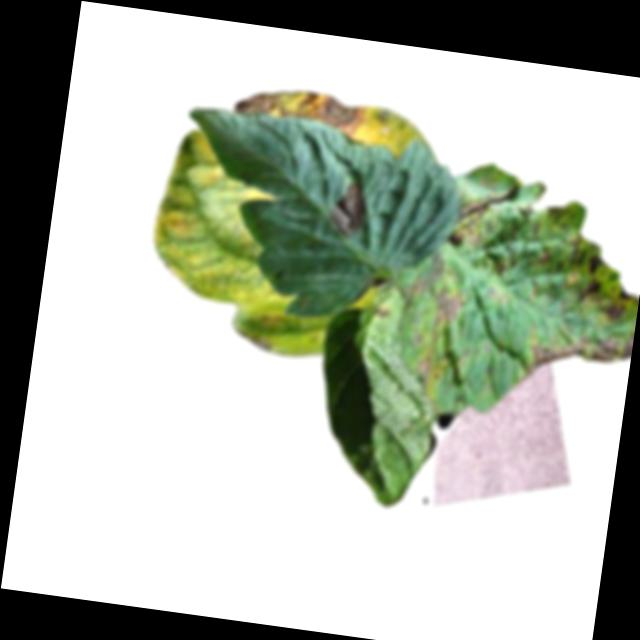Early_blight: (232, 78, 369, 136), (526, 319, 633, 390), (452, 175, 522, 252), (324, 176, 374, 240), (597, 283, 639, 328), (577, 249, 608, 306), (554, 228, 587, 278), (429, 286, 464, 329), (413, 346, 444, 391), (533, 241, 553, 267), (545, 201, 567, 220), (494, 259, 511, 277), (376, 302, 392, 317)
